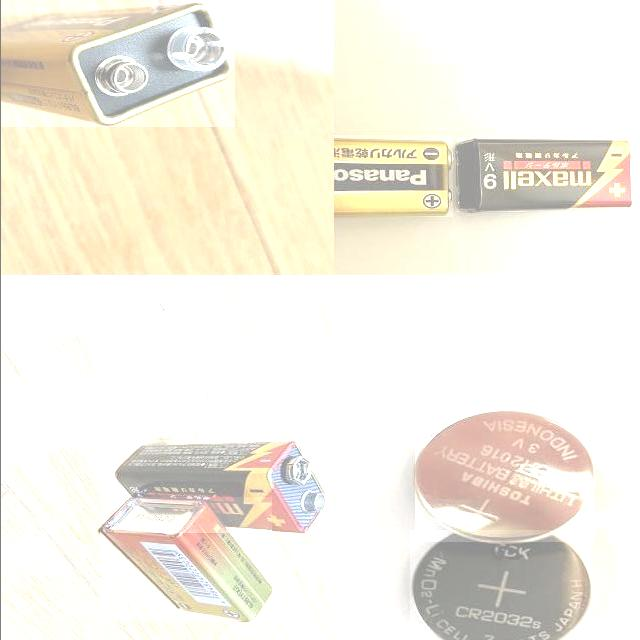9V: (0, 0, 234, 127), (98, 498, 270, 622), (112, 440, 328, 534), (455, 137, 632, 212), (333, 135, 452, 217)
